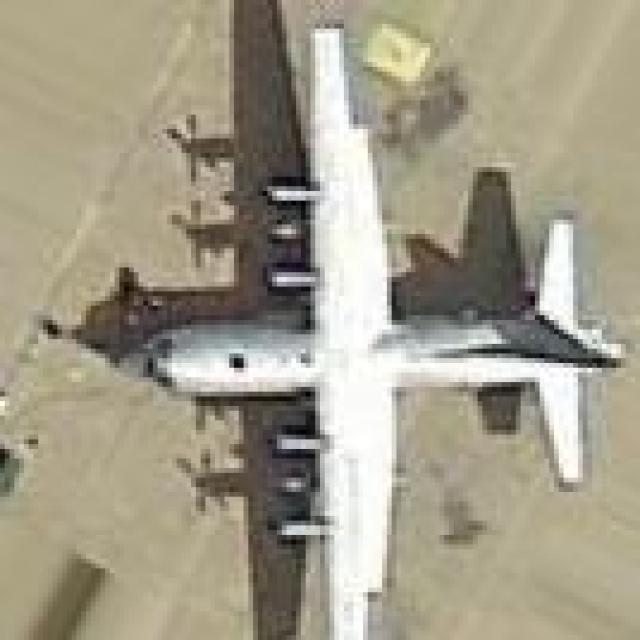C-130_TopDown: (53, 0, 633, 640)
